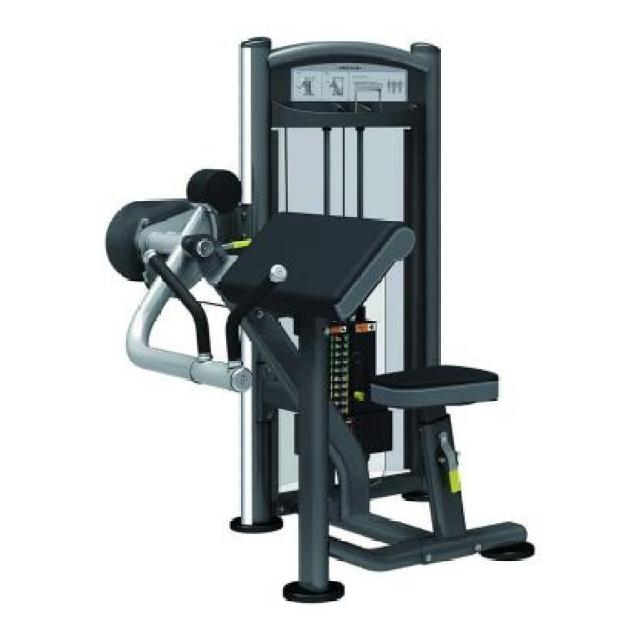arm curl machine: (106, 33, 537, 604)
